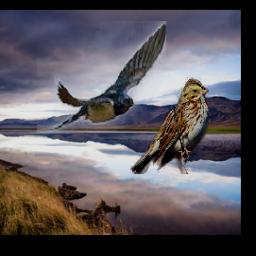Sparrow: (131, 77, 210, 174)
Swallow: (38, 22, 167, 134)
